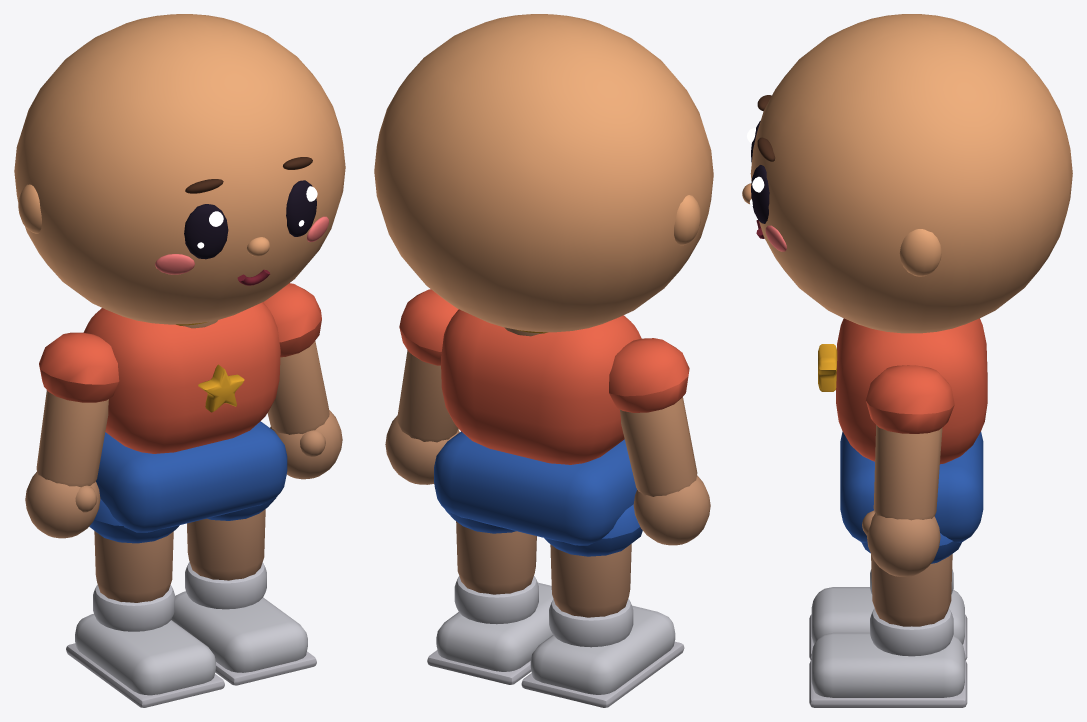
File: body_child_tee.glb
3 renders of one model, left to right at view 1: azimuth 30°, elevation 25°; view 2: azimuth 150°, elevation 25°; view 3: azimuth 270°, elevation 25°, orthographic. The views are drawn at different scales.
Parts seen in each view (by area): view 1: Head, Torso, LegR, LegL, Hips, ArmR, ArmL; view 2: Head, Torso, LegR, Hips, LegL, ArmR, ArmL; view 3: Head, LegL, ArmL, Torso, Hips, LegR.
Part boxes in pixels (left/top/right/bottom): Head: left=14, top=14, right=345, bottom=324; Torso: left=83, top=302, right=280, bottom=453; LegR: left=66, top=498, right=224, bottom=707; LegL: left=171, top=498, right=316, bottom=685; Hips: left=96, top=421, right=287, bottom=532; ArmR: left=25, top=332, right=119, bottom=538; ArmL: left=263, top=283, right=342, bottom=479; Head: left=374, top=14, right=713, bottom=332; Torso: left=441, top=309, right=641, bottom=464; LegR: left=521, top=504, right=684, bottom=707; Hips: left=434, top=431, right=636, bottom=545; LegL: left=427, top=509, right=553, bottom=684; ArmR: left=609, top=338, right=710, bottom=545; ArmL: left=385, top=289, right=459, bottom=484; Head: left=742, top=14, right=1072, bottom=333; LegL: left=809, top=533, right=967, bottom=707; ArmL: left=862, top=365, right=954, bottom=576; Torso: left=818, top=318, right=987, bottom=464; Hips: left=840, top=431, right=983, bottom=542; LegR: left=809, top=569, right=967, bottom=660.
Bounding box in the file's own units: 0.5589 × 1.09 × 0.5116.
